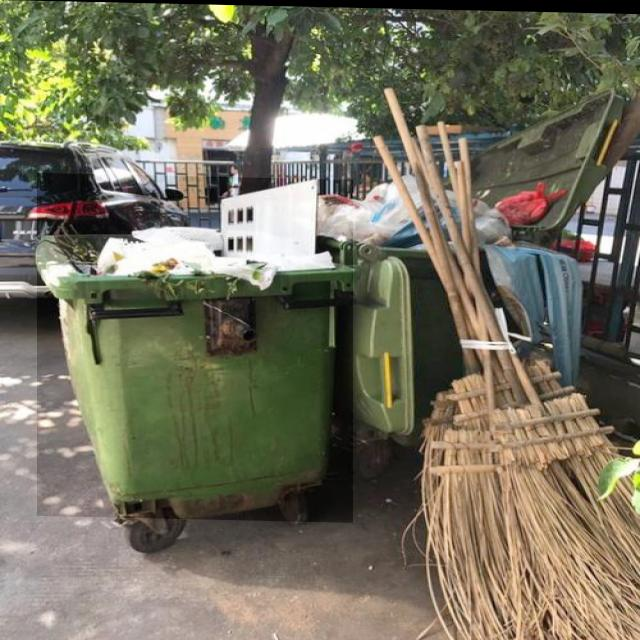overflow: (37, 173, 353, 521)
